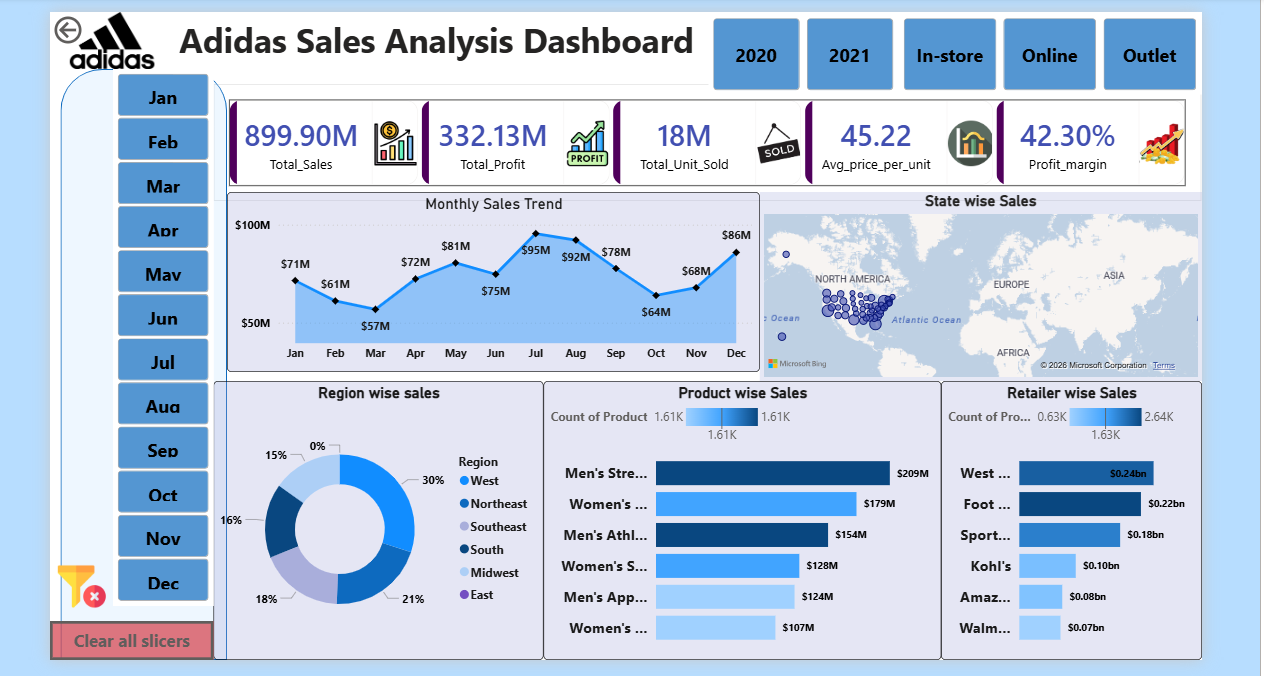

What the dashboard file says about the page in this screenshot:
{"tool":"powerbi","page":{"name":"Page 1","canvas":[1280,720],"ordinal":0},"visuals":[{"type":"cardVisual","fields":{"Data":["Data Sales Adidas.Total_Sales","Data Sales Adidas.Total_Profit","Data Sales Adidas.Total_Unit_Sold","Data Sales Adidas.Avg_price_per_unit","Data Sales Adidas.Profit_margin"]},"box":[181.7,80,1098.3,130],"z":0},{"type":"actionButton","box":[0,0,100,40],"z":5},{"type":"image","box":[0,0,138.3,63.3],"z":7},{"type":"textbox","box":[138,0,1142,80],"z":8},{"type":"shape","box":[11.7,63.3,185,656.7],"z":9},{"type":"areaChart","title":"Monthly Sales Trend","fields":{"Category":["Data Sales Adidas.Month"],"Y":["Data Sales Adidas.Total_Sales"]},"box":[196.7,200,591.7,200],"z":10},{"type":"donutChart","title":" Region wise sales","fields":{"Y":["Data Sales Adidas.Total_Sales"],"Category":["Data Sales Adidas.Region"]},"box":[181.7,410,366.7,310],"z":11},{"type":"clusteredBarChart","title":"Product wise Sales","fields":{"Category":["Data Sales Adidas.Product"],"Y":["Data Sales Adidas.Total_Sales"]},"box":[548.3,410,441.7,310],"z":12},{"type":"clusteredBarChart","title":" Retailer wise Sales","fields":{"Category":["Data Sales Adidas.Retailer"],"Y":["Data Sales Adidas.Total_Sales"]},"box":[990,410,290,310],"z":13},{"type":"map","title":"State wise Sales","fields":{"Category":["Data Sales Adidas.State"],"Size":["Data Sales Adidas.Total_Sales"]},"box":[788.3,200,491.7,210],"z":14},{"type":"advancedSlicerVisual","fields":{"Values":["Data Sales Adidas.Sales Method"]},"box":[943.3,1.7,336.7,90],"z":15},{"type":"advancedSlicerVisual","fields":{"Values":["Data Sales Adidas.Invoice Date.Variation.Date Hierarchy.Year"]},"box":[731.7,1.7,211.7,90],"z":16},{"type":"advancedSlicerVisual","fields":{"Values":["Data Sales Adidas.Month"]},"box":[70,63.3,111.7,596.7],"z":17},{"type":"image","box":[0,611.7,70,53.3],"z":18},{"type":"actionButton","box":[0,676.7,181.7,43.3],"z":19}]}

Visuals, with their boxes in screenshot pixels (x1, y1, x2, y2):
cardVisual - Data Sales Adidas.Total_Sales x Data Sales Adidas.Total_Profit: (220, 40, 1263, 165)
actionButton: (46, 0, 142, 2)
image: (46, 0, 179, 24)
textbox: (178, 0, 1263, 40)
shape: (57, 24, 235, 654)
"Monthly Sales Trend" areaChart: (235, 155, 802, 347)
" Region wise sales" donutChart: (220, 357, 572, 654)
"Product wise Sales" clusteredBarChart: (571, 357, 995, 654)
" Retailer wise Sales" clusteredBarChart: (995, 357, 1263, 654)
"State wise Sales" map: (801, 155, 1263, 357)
advancedSlicerVisual - Data Sales Adidas.Sales Method: (950, 0, 1263, 52)
advancedSlicerVisual - Data Sales Adidas.Invoice Date.Variation.Date Hierarchy.Year: (747, 0, 950, 52)
advancedSlicerVisual - Data Sales Adidas.Month: (113, 24, 220, 596)
image: (46, 550, 113, 601)
actionButton: (46, 612, 220, 654)
